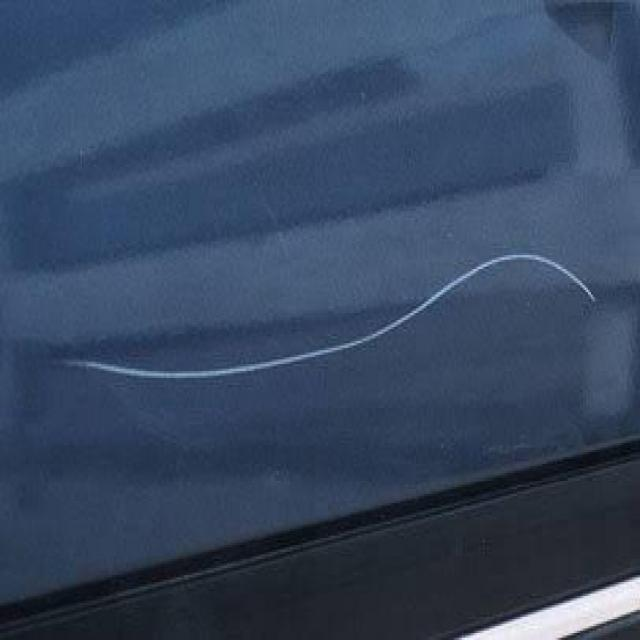scratch: (61, 244, 599, 384)
